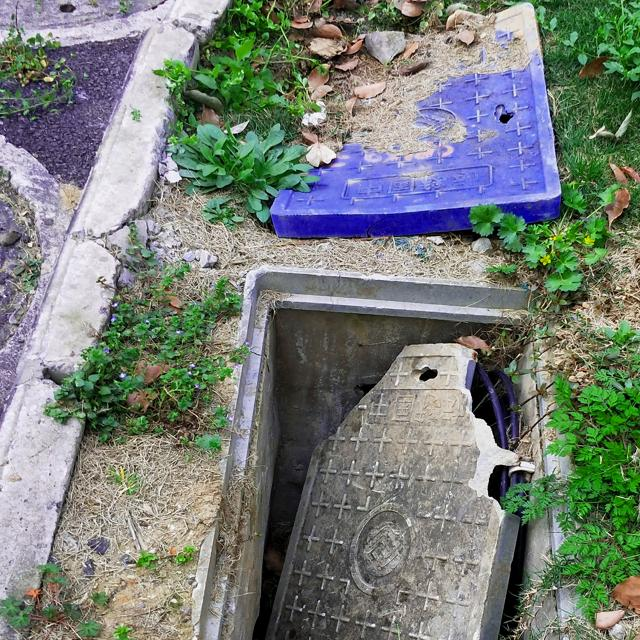broke: (170, 260, 606, 640)
